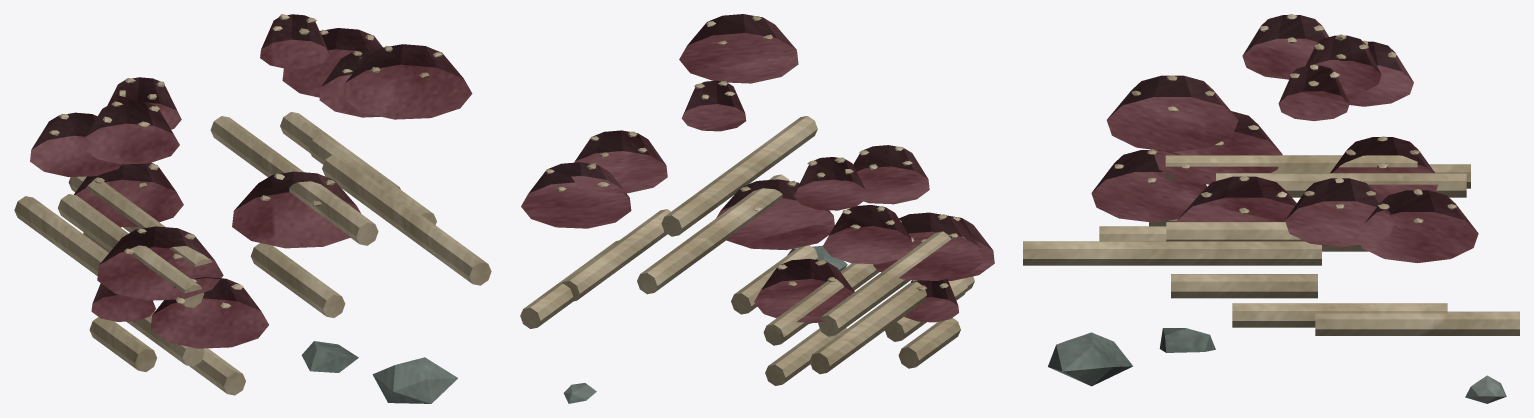
The model's file is 0225_mushroom_patch_25.glb.
3 renders of one model, left to right at view 1: azimuth 30°, elevation 25°; view 2: azimuth 150°, elevation 25°; view 3: azimuth 270°, elevation 25°, orthographic. The views are drawn at different scales.
Parts seen in each view (by area): view 1: cloth, bone, stone; view 2: cloth, bone, stone; view 3: cloth, bone, stone.
Part boxes in pixels (x1,y1,x2,y2): cloth: (30,14,472,348); bone: (14,14,491,395); stone: (301,341,457,403); cloth: (521,14,994,322); bone: (520,16,974,385); stone: (563,245,847,403); cloth: (1091,15,1478,263); bone: (1023,14,1519,335); stone: (1048,328,1506,403).
Size of the model in its own units: 2.09 by 1.54 by 2.29.
Materials: 3 (3 with a texture image).
